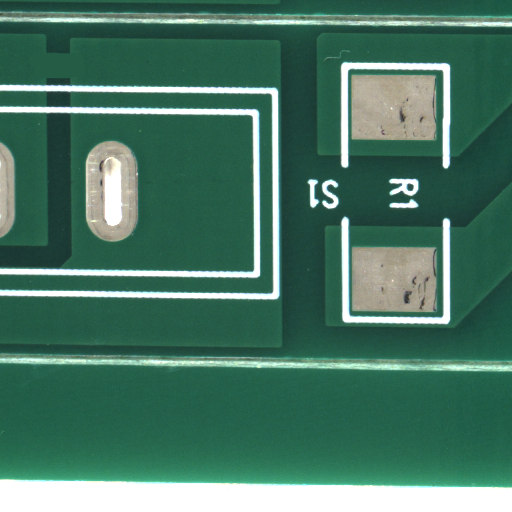Short: (57, 64, 108, 103)
